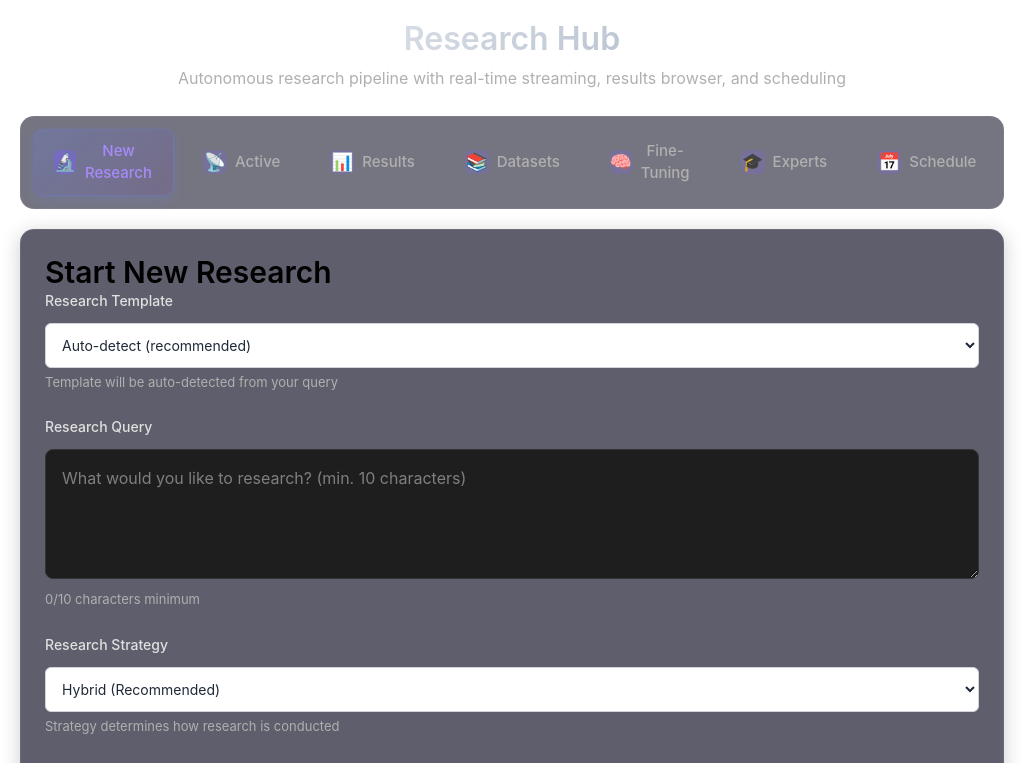
ResearchHub Tab Content › renders Active Sessions tab content when clicked
Click the text "Active" at [258, 162], box [235,151,280,174]
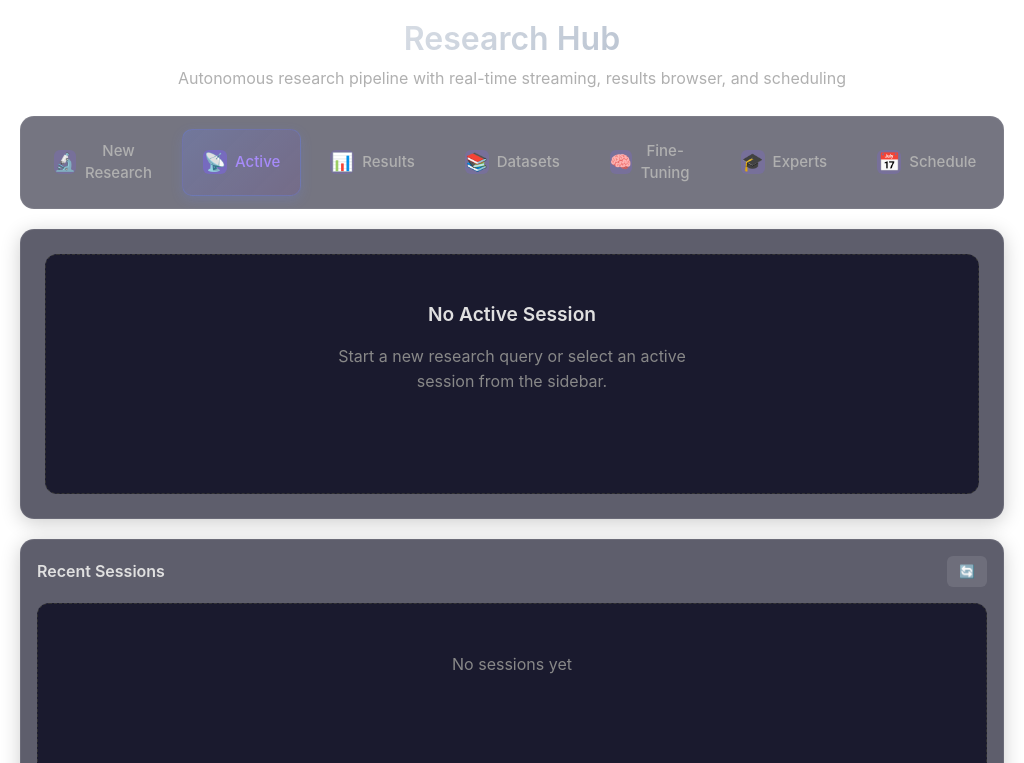
Check: the heading "No Active Session" is shown, box [428,303,596,326]
